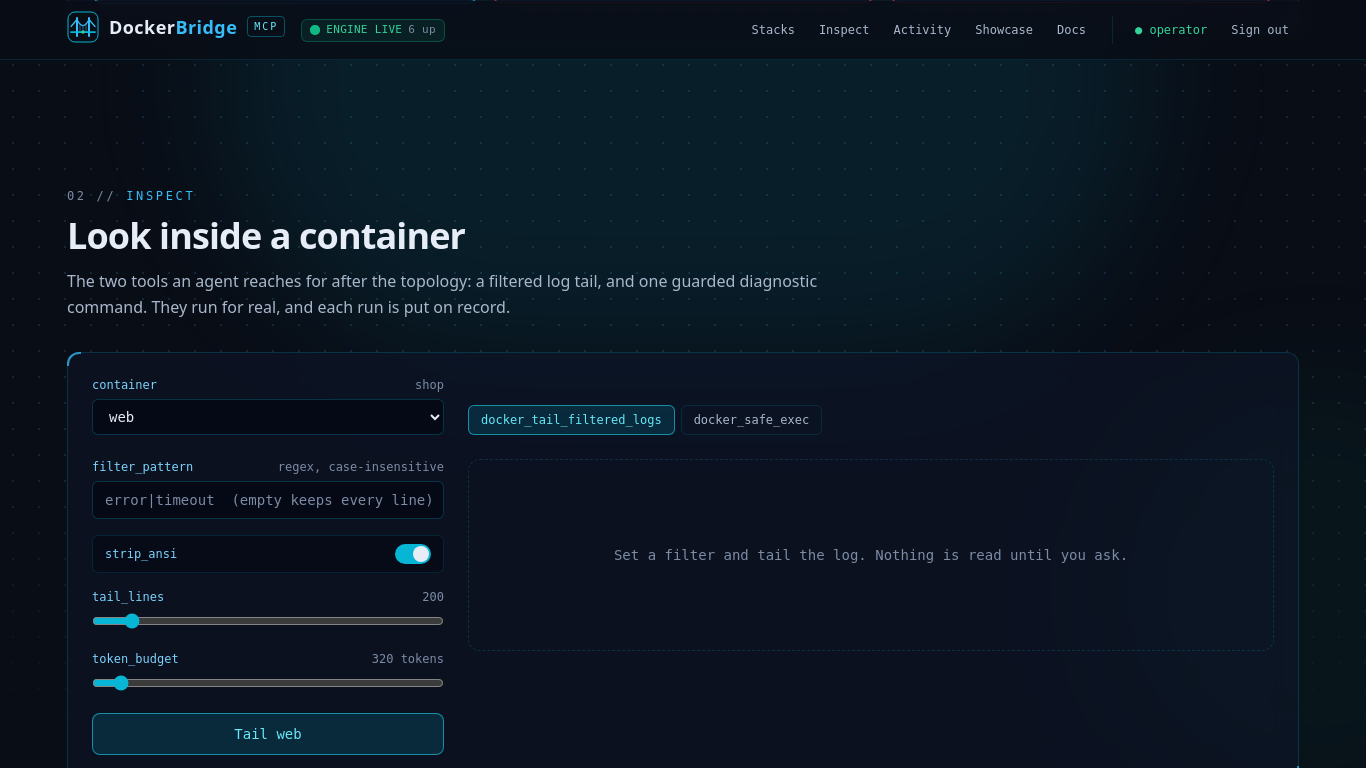
Test case: running a command › runs an allowlisted command and prints what it wrote
(page scrolled)
Expected: the dropdown labelled "container shop" is shown, [92,399,444,435]
Step 1. Click the tab "docker_safe_exec" → click(751, 420), box [681,405,822,435]
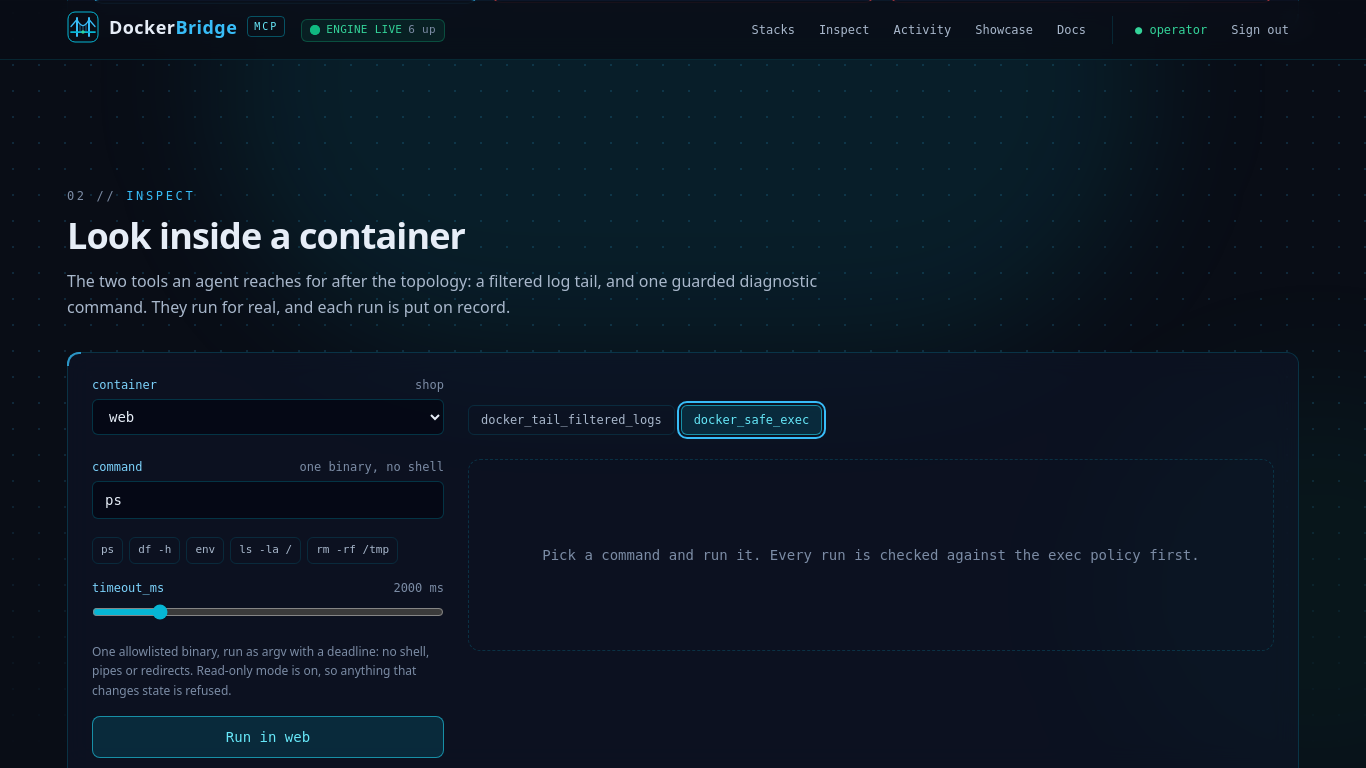
Step 2. Click the button "Run in web" → click(268, 737), box [92,716,444,758]
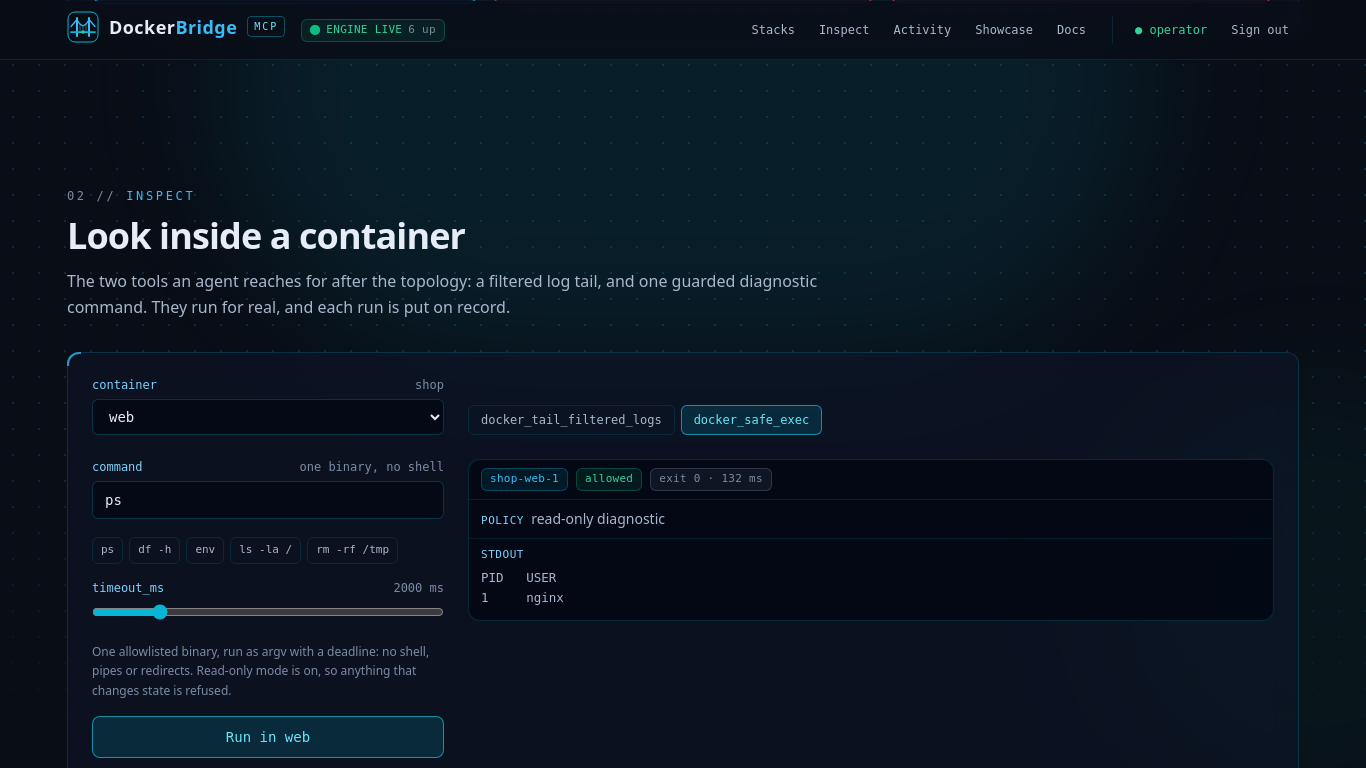
Expected: the text "allowed" is shown, [576,468,642,490]
Expected: the text "exit 0 · 132 ms" is shown, [650,468,772,490]
Expected: the text named "stdout" reads "PID USER 1 nginx", [481,570,564,605]
